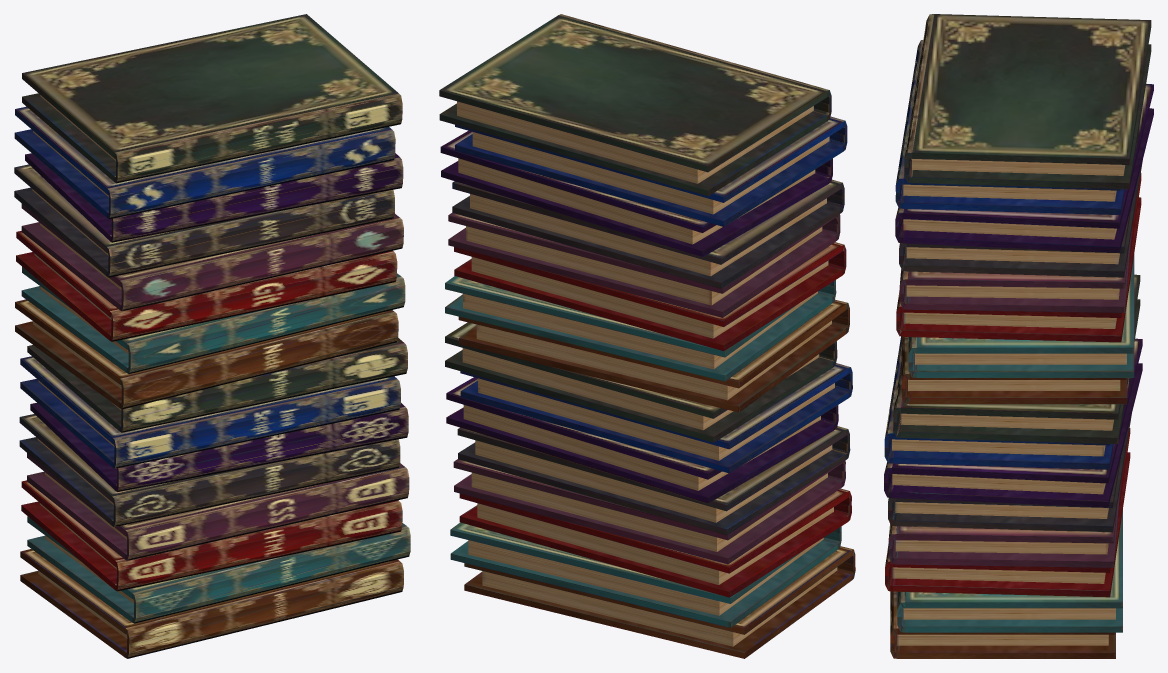
3 renders of one model, left to right at view 1: azimuth 30°, elevation 25°; view 2: azimuth 150°, elevation 25°; view 3: azimuth 270°, elevation 25°, orthographic. The views are drawn at different scales.
Parts seen in each view (by area): view 1: Box002_ORANGE_0; view 2: Box002_ORANGE_0; view 3: Box002_ORANGE_0.
Boxes of the visible parts, left/top/right/bottom form: Box002_ORANGE_0: left=14, top=14, right=410, bottom=658; Box002_ORANGE_0: left=439, top=14, right=855, bottom=658; Box002_ORANGE_0: left=884, top=14, right=1153, bottom=658.
Bounding box in the file's own units: 54.51 × 84.83 × 40.75.
1 material, 1 textured.
